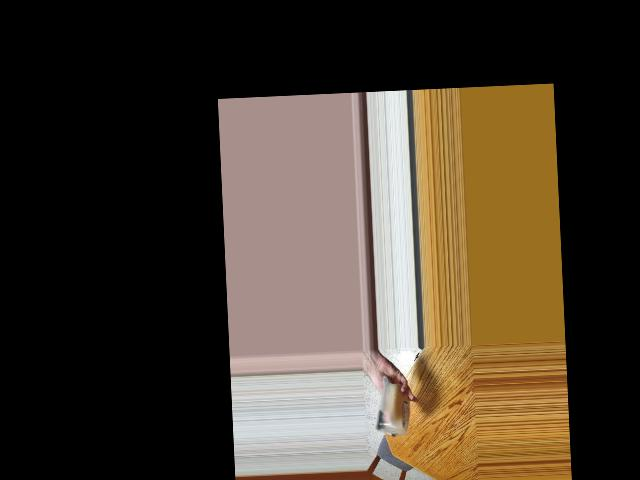cheese: (378, 385, 410, 433)
